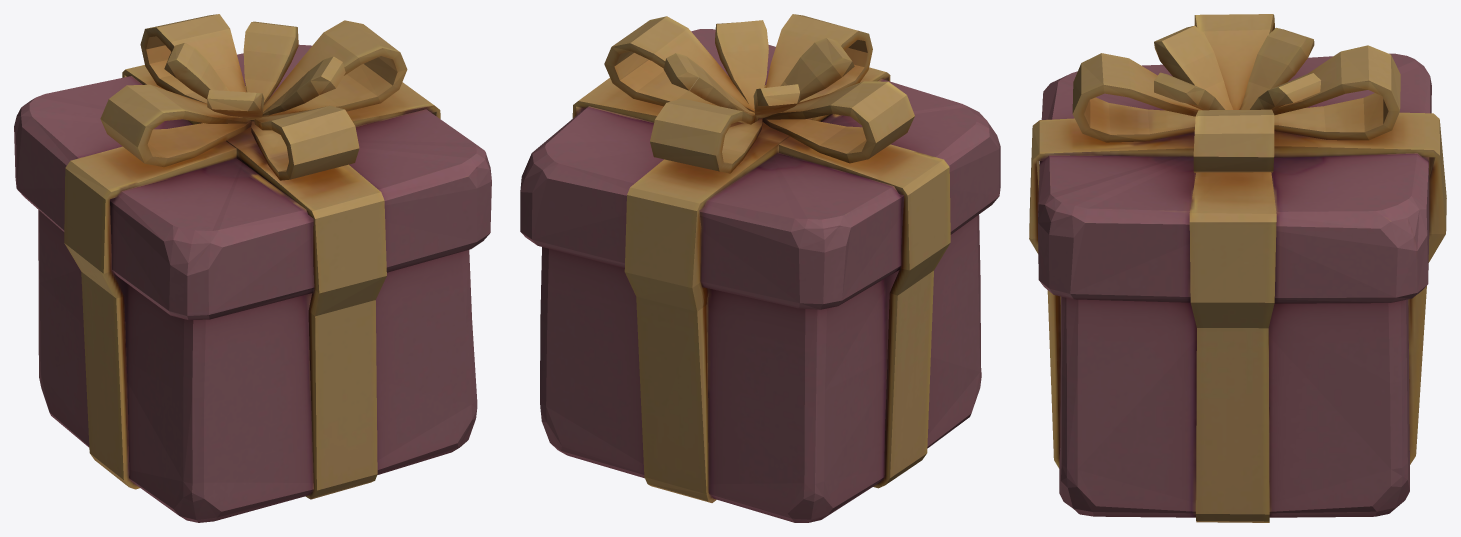
Rendered from mystery-box.glb.
The picture shows the model from 3 angles, left to right: view 1: azimuth 30°, elevation 25°; view 2: azimuth 150°, elevation 25°; view 3: azimuth 270°, elevation 25°; orthographic projection. The views are drawn at different scales.
Parts seen in each view (by area): view 1: tripo_mesh_392ef53a-c9f5-455b-ad3d-afa9d628abc4; view 2: tripo_mesh_392ef53a-c9f5-455b-ad3d-afa9d628abc4; view 3: tripo_mesh_392ef53a-c9f5-455b-ad3d-afa9d628abc4.
Part boxes in pixels (<box>): tripo_mesh_392ef53a-c9f5-455b-ad3d-afa9d628abc4: <box>14,14,491,522</box>; tripo_mesh_392ef53a-c9f5-455b-ad3d-afa9d628abc4: <box>520,14,1000,522</box>; tripo_mesh_392ef53a-c9f5-455b-ad3d-afa9d628abc4: <box>1029,14,1446,522</box>.
Bounding box in the file's own units: 0.9914 × 1.08 × 1.
1 material, 1 textured.
